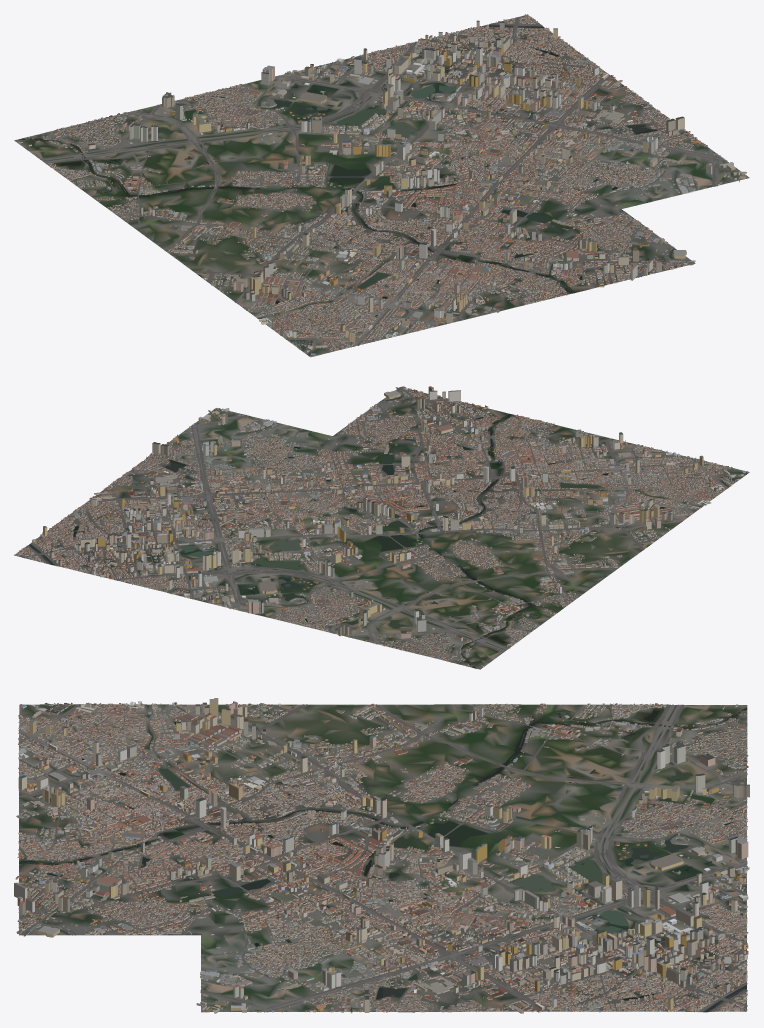
3 views of the same model, one above another, from view 1: azimuth 30°, elevation 25°; view 2: azimuth 150°, elevation 25°; view 3: azimuth 270°, elevation 25° (orthographic). The views are drawn at different scales.
Parts seen in each view (by area): view 1: buildings, ground, roads, water; view 2: ground, buildings, roads, water; view 3: buildings, ground, roads, water.
Part boxes in pixels (<box>): buildings: <box>18,14,746,356</box>; ground: <box>14,15,749,357</box>; roads: <box>32,17,728,346</box>; water: <box>19,25,656,318</box>; ground: <box>14,387,749,669</box>; buildings: <box>14,386,749,666</box>; roads: <box>22,387,728,666</box>; water: <box>30,413,699,668</box>; buildings: <box>14,698,749,1013</box>; ground: <box>19,704,747,1012</box>; roads: <box>18,704,747,1012</box>; water: <box>19,704,746,1011</box>.
Bounding box in the file's own units: 5675 × 184 × 5668.
